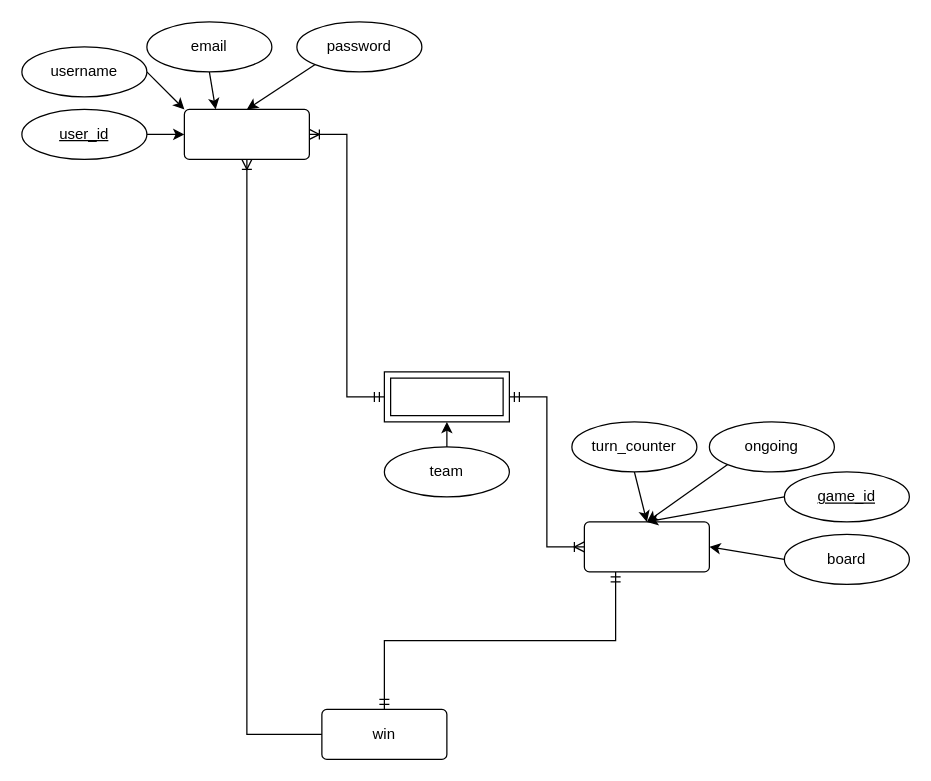
Image size: 931x781. Some labels were removed from this diagram. The centre of each missing label's shape, as x and y in pixels:
"game" belongs at (x=646, y=546).
"player" belongs at (x=446, y=396).
"users" belongs at (x=246, y=133).
